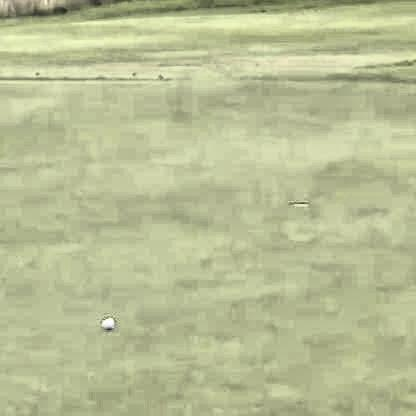golfball: (97, 314, 113, 330)
